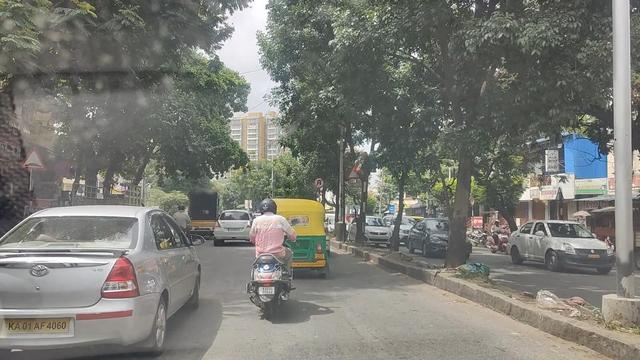LMV: (14, 202, 207, 349), (252, 194, 289, 320), (277, 196, 332, 273)
